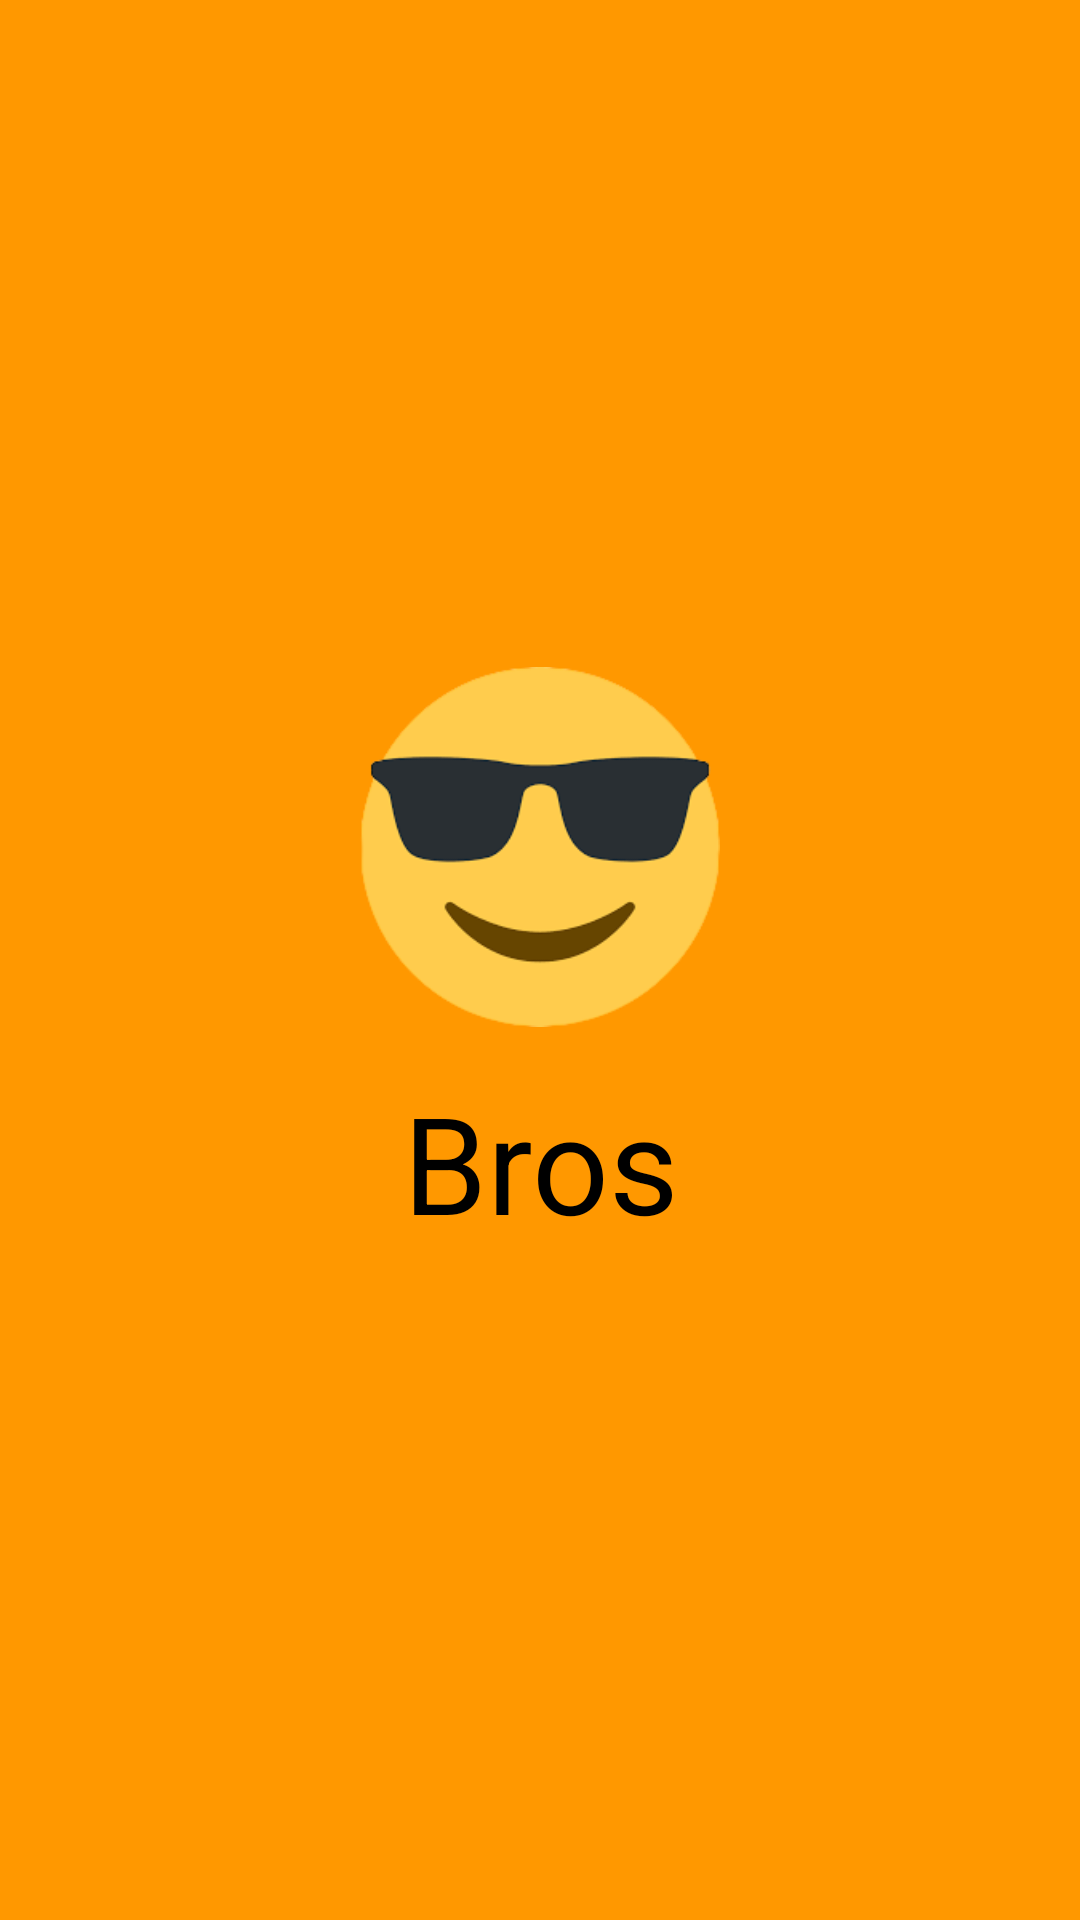

Named icons in this screenshot (1080 x 1920) and their bounding boxes, [left=x1, top=y1, right=x2, bottom=y2]:
emoji: [left=361, top=667, right=720, bottom=1027]
